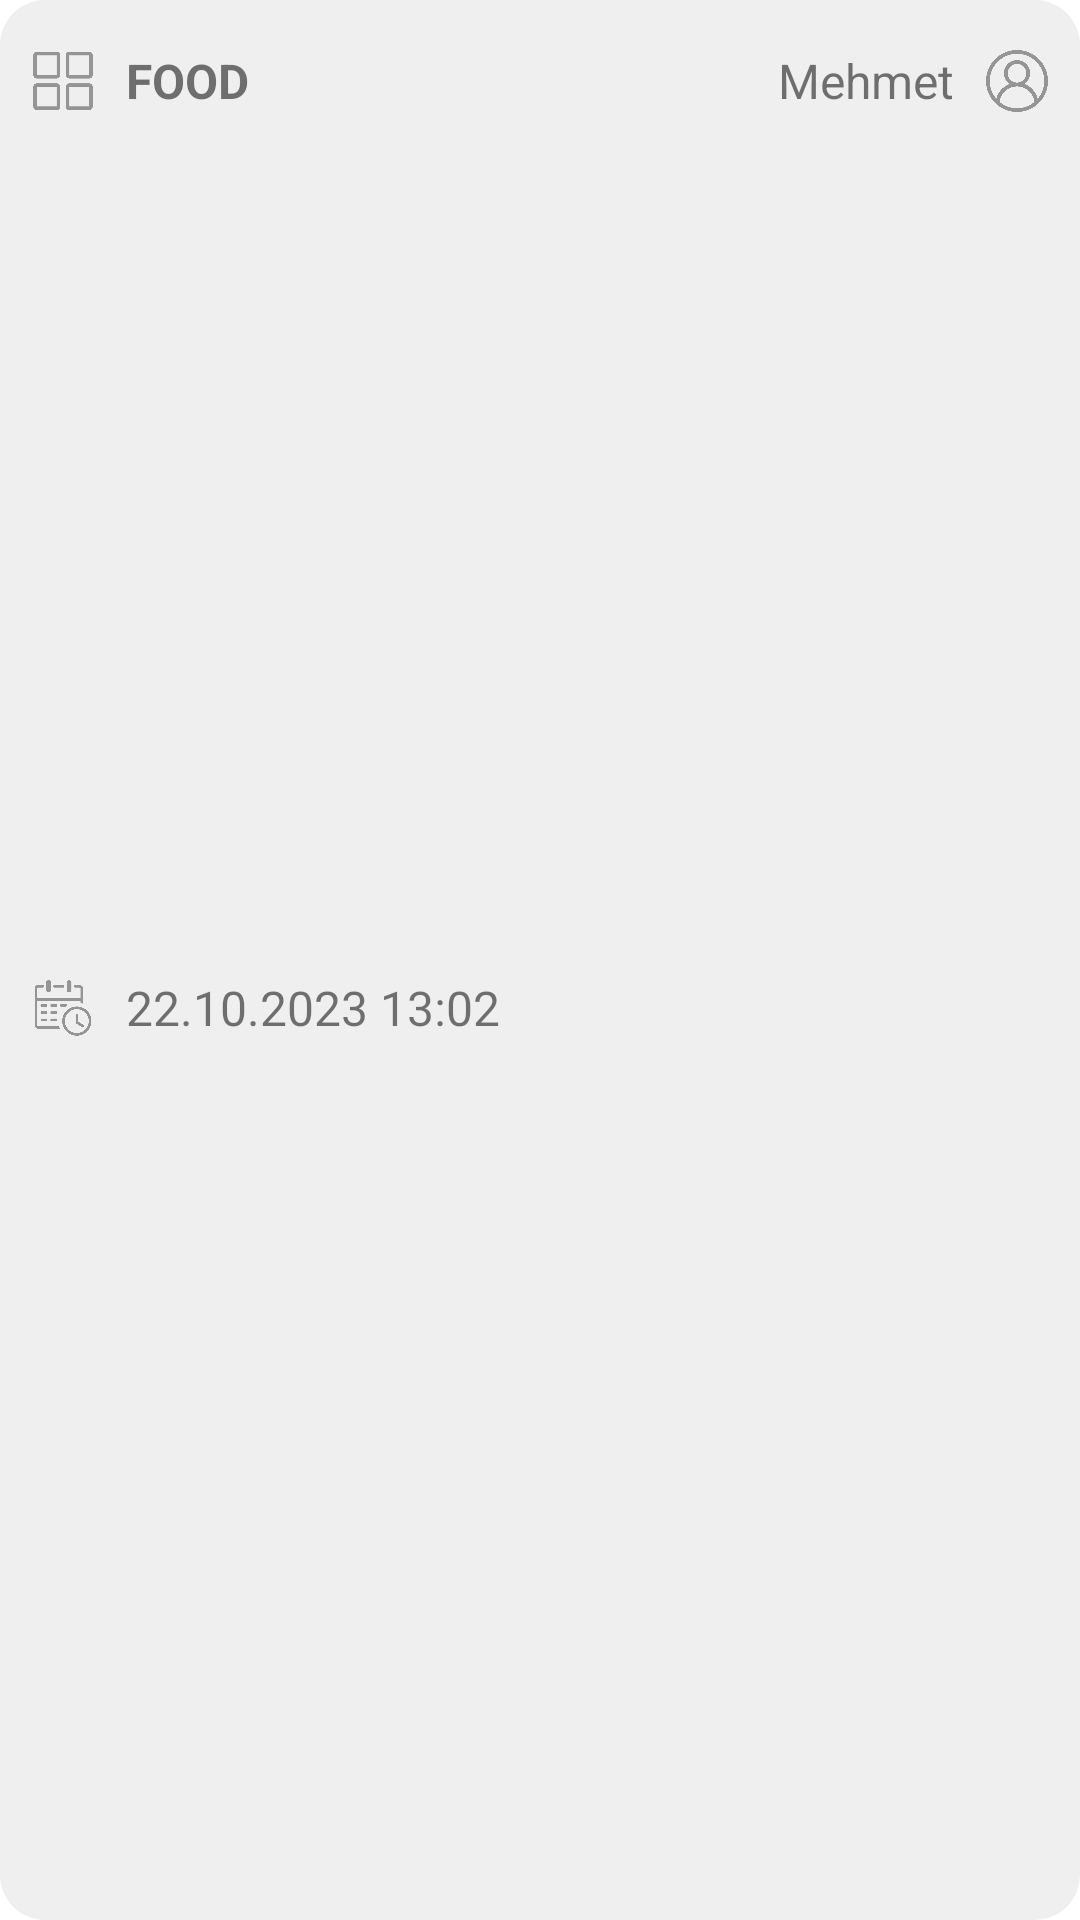

Screen size 1080px x 1920px. Icon name, then its center in pixels as point (x, y):
recyc category: point (63, 81)
recyc date time: point (63, 1008)
recyc user: point (1017, 81)
